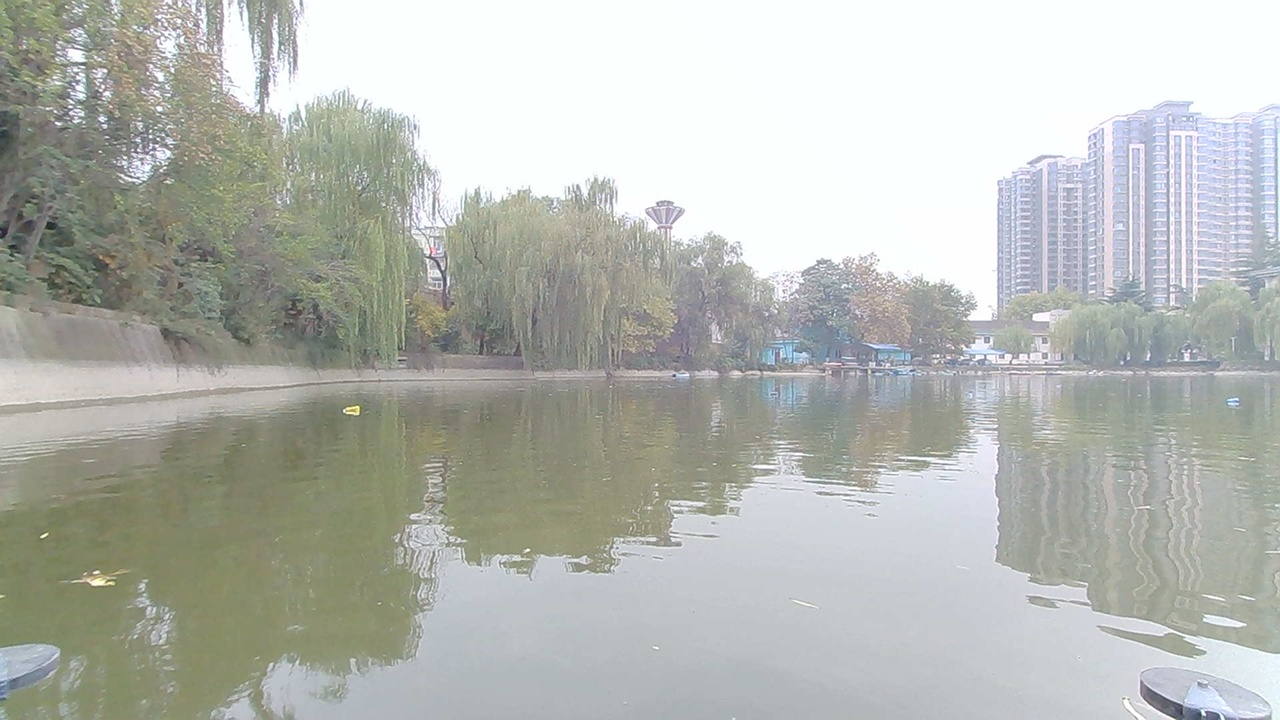bottle: (335, 398, 369, 421), (1219, 394, 1250, 417), (763, 390, 792, 405)
